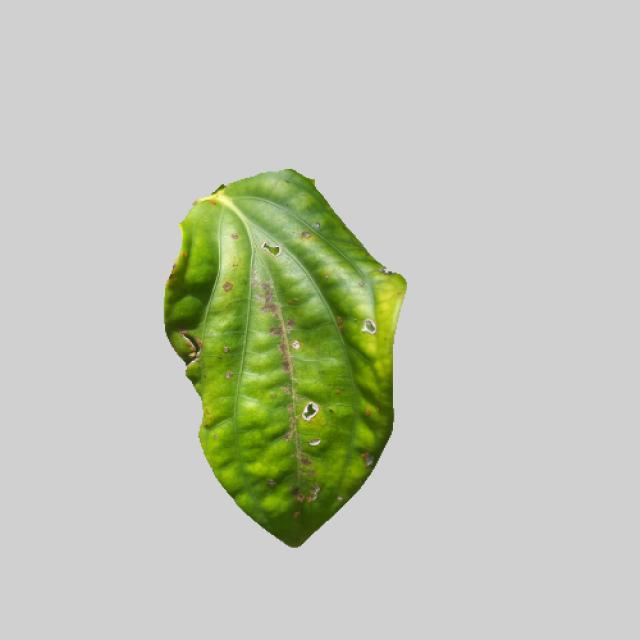yellow-mottle-virus: (154, 165, 408, 542)
